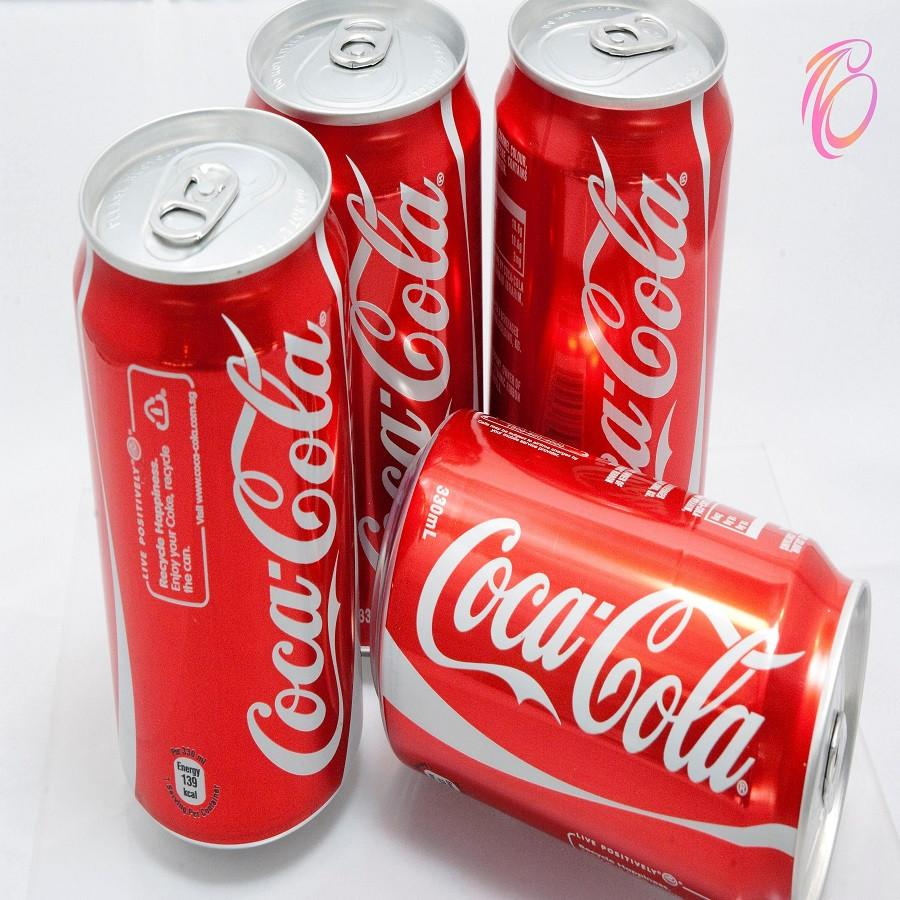coke: (385, 409, 830, 892), (80, 129, 363, 852), (498, 1, 715, 491), (253, 27, 485, 474)
